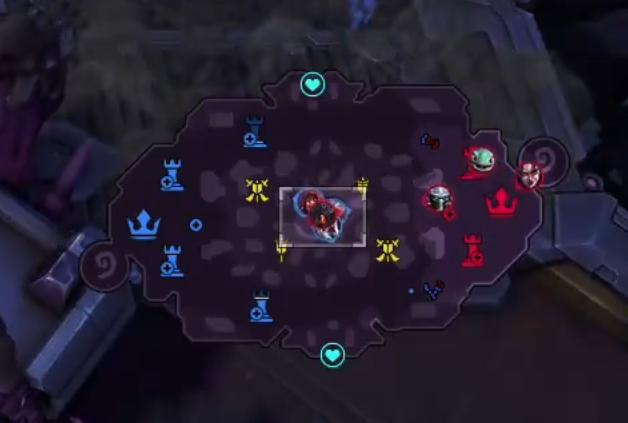blue nexus: (125, 206, 161, 239)
blue player: (307, 196, 351, 242), (294, 189, 322, 217)
blue tower: (242, 113, 268, 149), (159, 156, 185, 191), (159, 242, 185, 277), (248, 288, 274, 322)
red nexus: (484, 185, 518, 217)
red player: (461, 145, 496, 179), (309, 200, 340, 230), (422, 184, 454, 213), (516, 161, 543, 189)
red tower: (460, 232, 485, 267)
